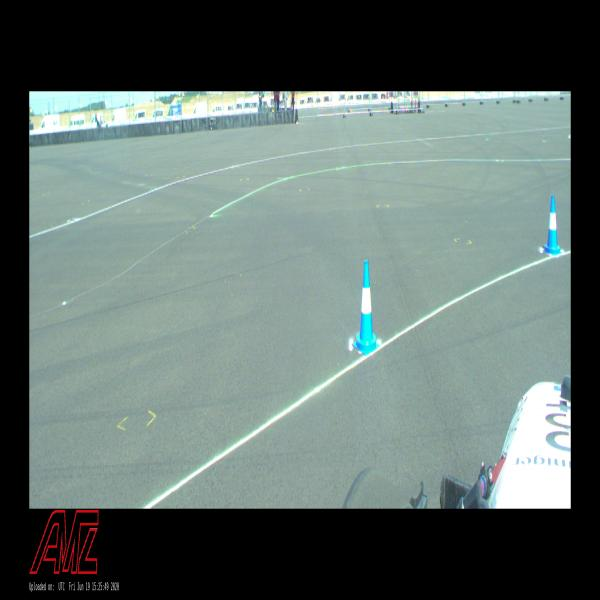blue_cone: (352, 260, 381, 356), (542, 195, 562, 256)
